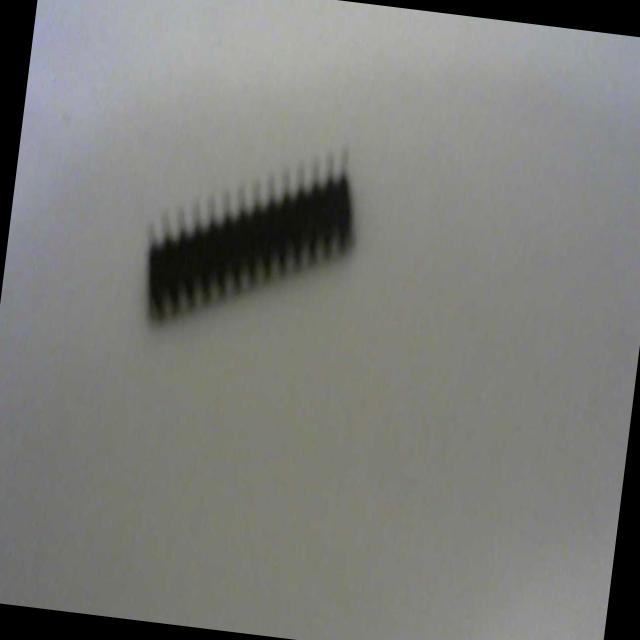atmega: (134, 120, 368, 352)
